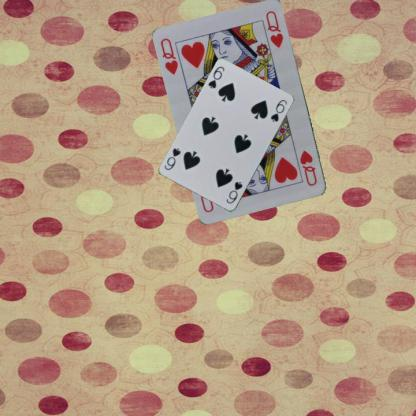6s: (223, 179, 244, 205), (206, 64, 226, 90)
Qh: (297, 148, 319, 188), (158, 36, 180, 76)
